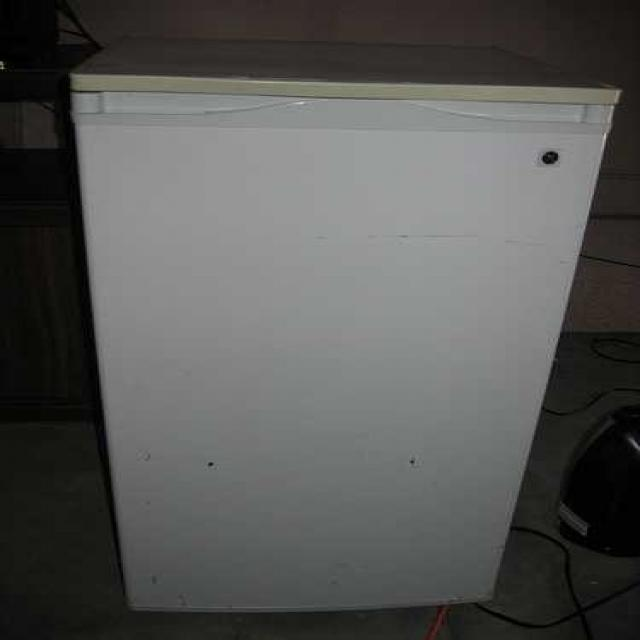refrigerator: (70, 71, 622, 638)
